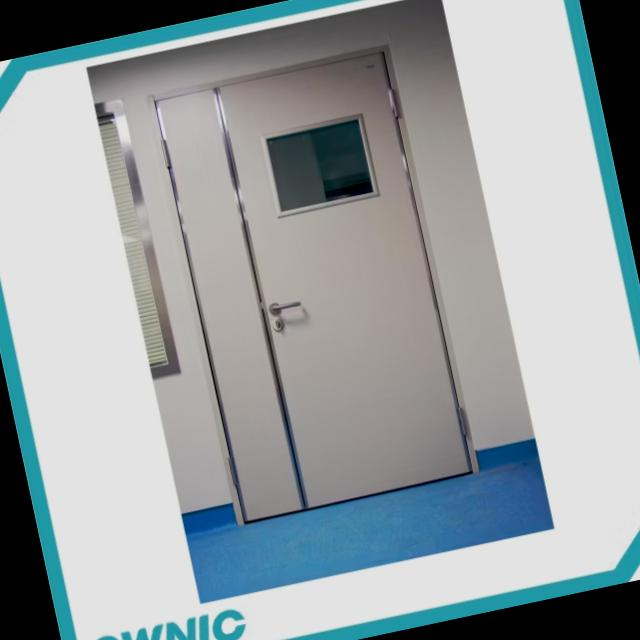door: (147, 45, 479, 527)
